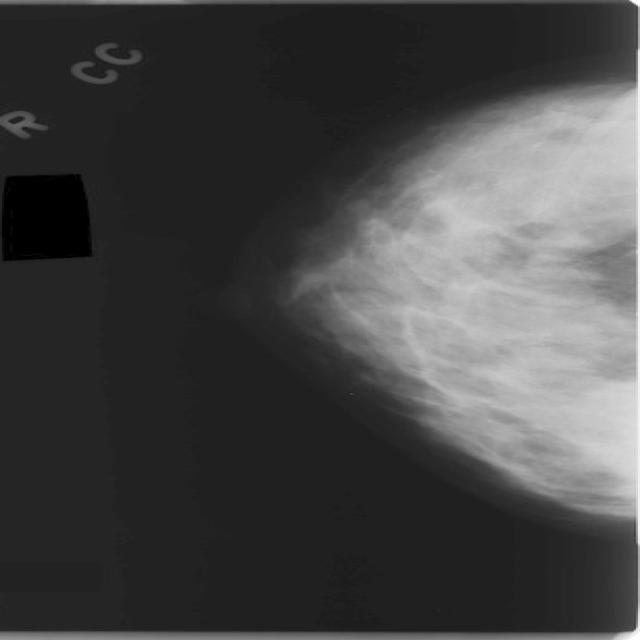tumour: (559, 378, 638, 476)
